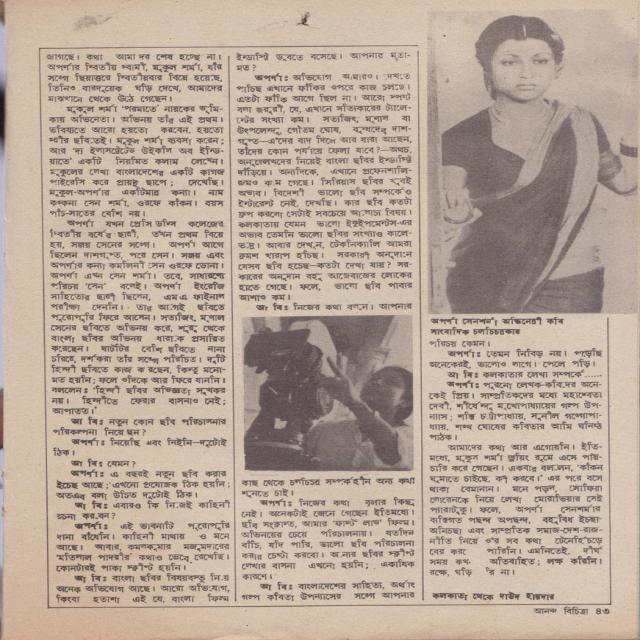caption: (429, 317, 565, 335)
image: (428, 10, 640, 315), (241, 314, 414, 471)
page number: (595, 608, 609, 615)
paragraph: (236, 72, 414, 301), (50, 218, 227, 415), (428, 441, 604, 578), (47, 103, 225, 217), (241, 497, 417, 581), (428, 379, 603, 441), (56, 520, 231, 572), (45, 53, 224, 103), (53, 469, 230, 500), (55, 572, 231, 603), (241, 476, 417, 498), (51, 416, 227, 437), (55, 500, 231, 521), (235, 51, 410, 72), (241, 580, 416, 601), (429, 348, 604, 369), (51, 437, 229, 457), (255, 302, 414, 312), (446, 370, 604, 378), (70, 458, 138, 468), (428, 338, 492, 348)
text: (432, 592, 557, 600), (563, 606, 588, 615), (534, 608, 557, 614)
